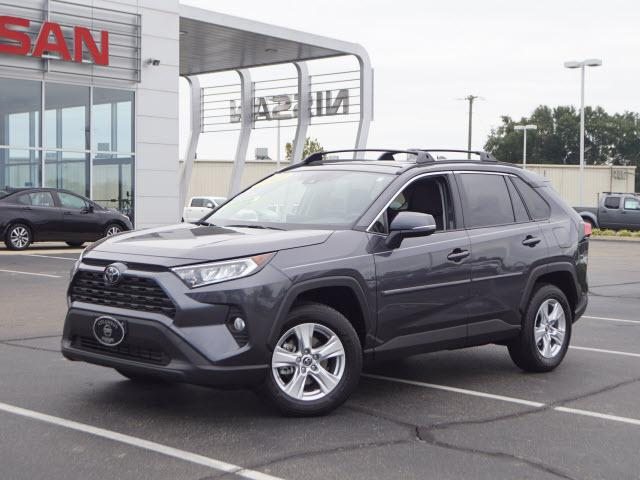Toyota RAV-4: (62, 152, 588, 414)
